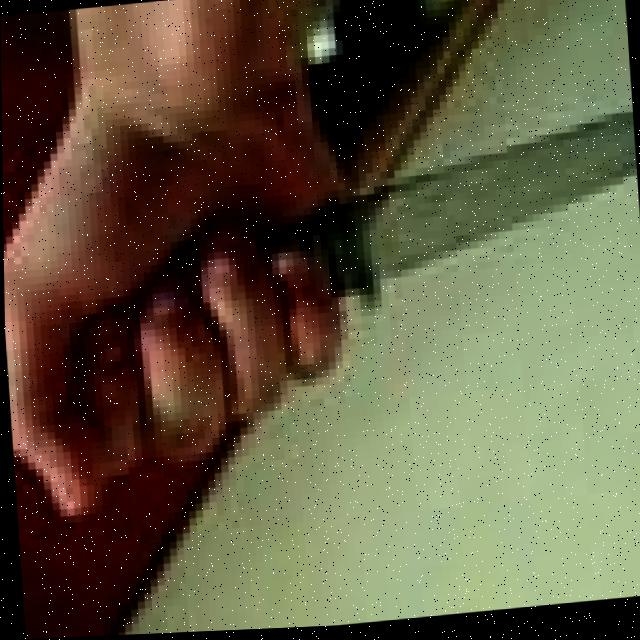knife: (325, 89, 640, 294)
